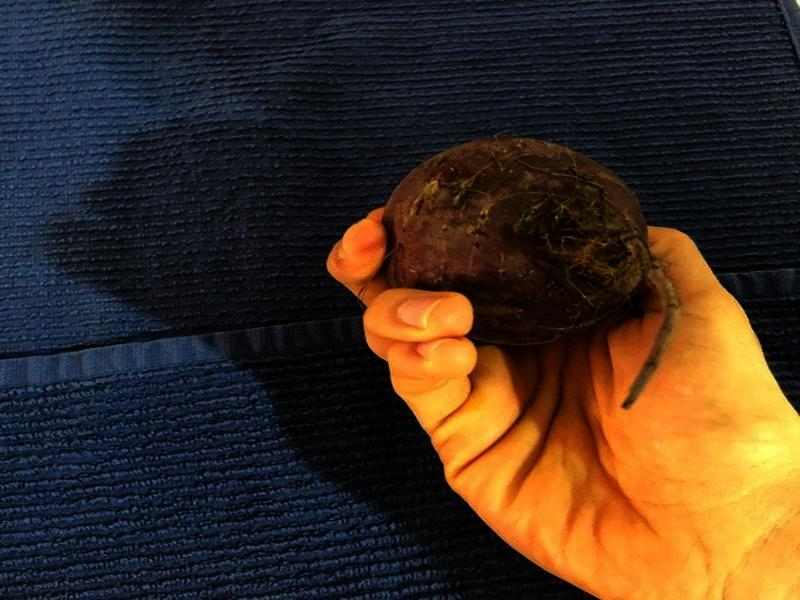Beet: (383, 139, 676, 412)
